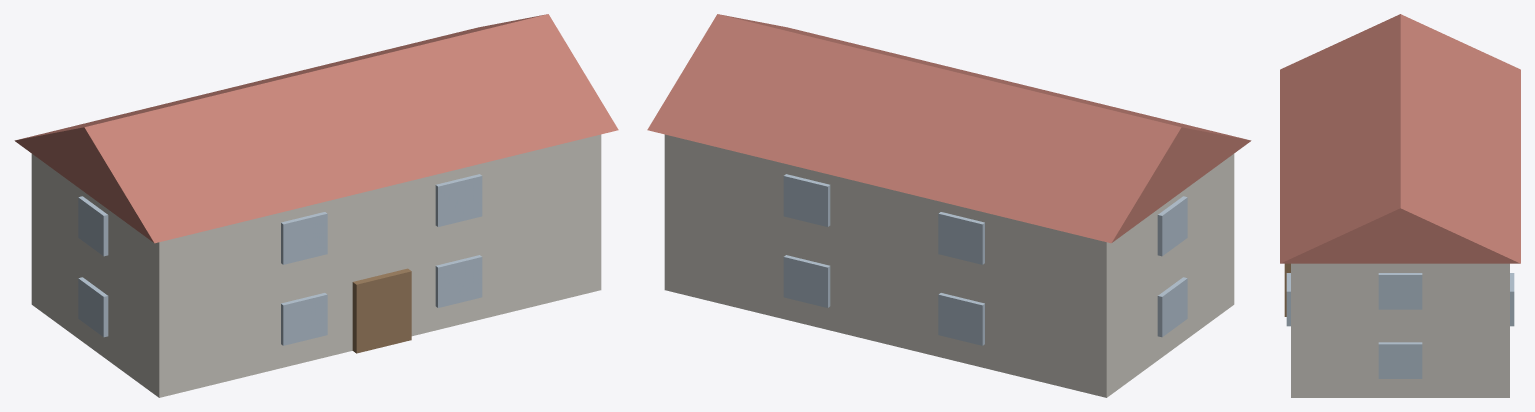
File: House_2x1_2F.glb
3 views of the same model, side by side, from view 1: azimuth 30°, elevation 25°; view 2: azimuth 150°, elevation 25°; view 3: azimuth 270°, elevation 25° (orthographic). The views are drawn at different scales.
Visible parts, largest first — view 1: House_2x1_2F; view 2: House_2x1_2F; view 3: House_2x1_2F.
Part boxes in pixels (x1=…): House_2x1_2F: x1=14, y1=14, x2=618, y2=397; House_2x1_2F: x1=647, y1=14, x2=1251, y2=397; House_2x1_2F: x1=1280, y1=14, x2=1520, y2=397.
Size of the model in its own units: 2.1 by 0.98 by 1.1.
